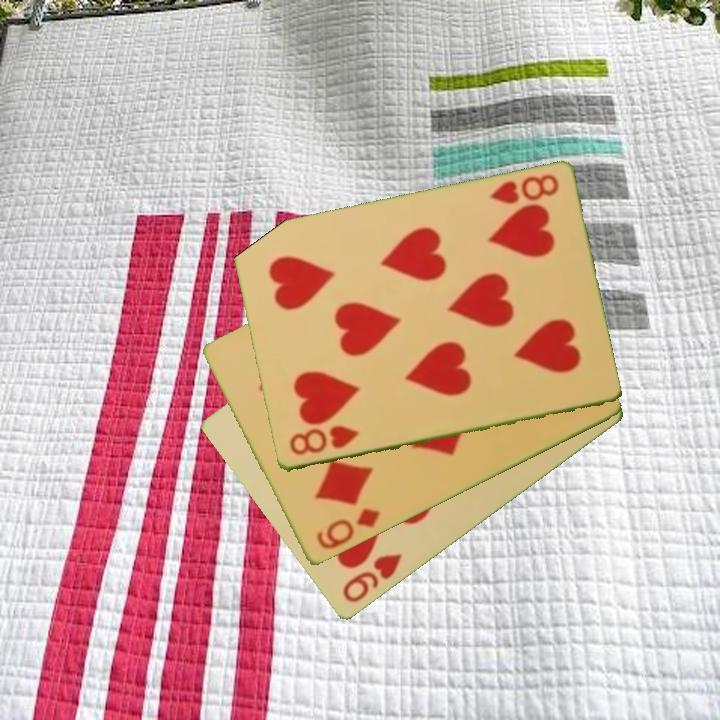6d: (312, 504, 384, 553)
8h: (285, 422, 362, 459), (486, 171, 562, 208)
9h: (338, 550, 406, 607)
